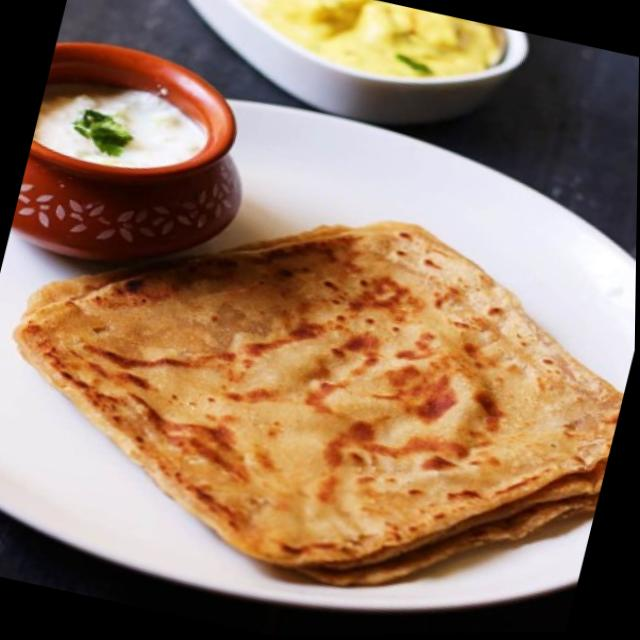CURD: (33, 86, 207, 166)
PAROTTA: (7, 215, 622, 581)
